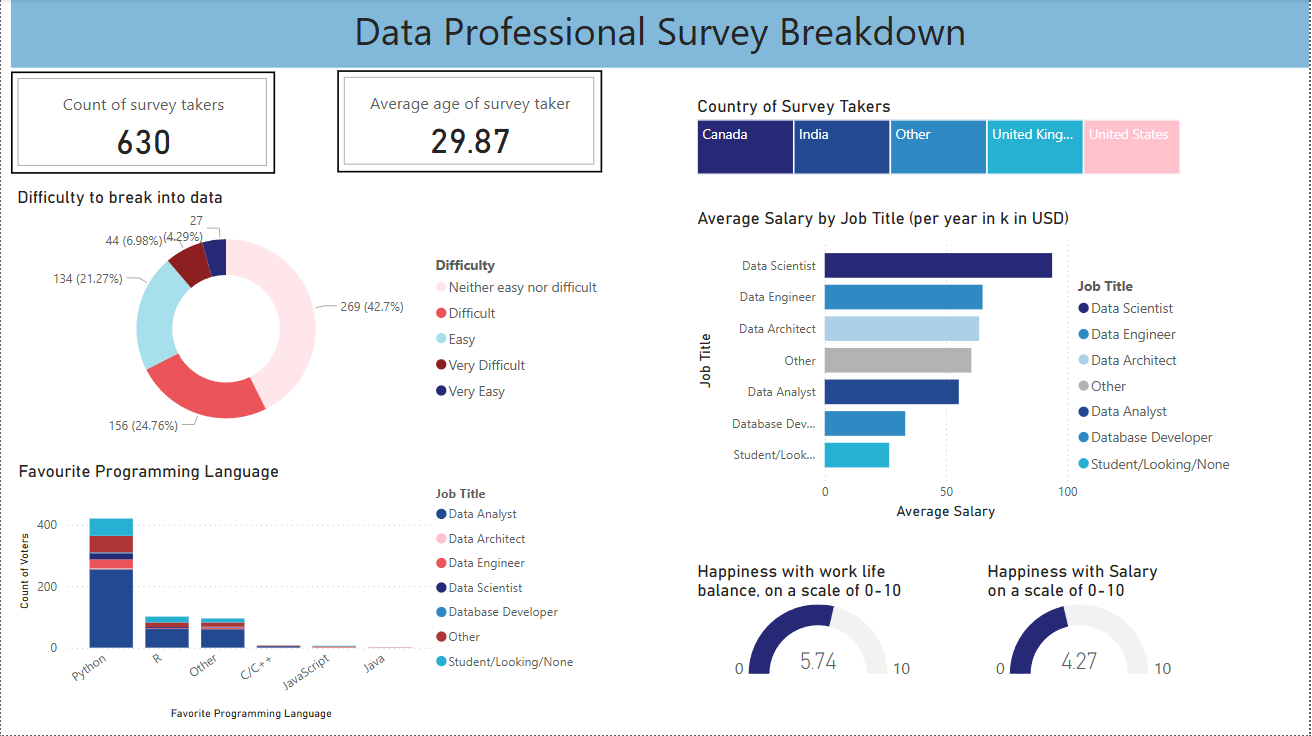

The page's visual inventory and layout, read from the dashboard file:
{"tool":"powerbi","page":{"name":"Page 1","canvas":[1280,720],"ordinal":0},"visuals":[{"type":"textbox","box":[10,0,1270.3,67.2],"z":0},{"type":"cardVisual","fields":{"Data":["Count(Data Professional Survey.Unique ID)"]},"box":[10,70.5,258.4,100],"z":1000},{"type":"cardVisual","fields":{"Data":["Avg(Data Professional Survey.Q10 - Current Age)"]},"box":[328.6,70.2,259.5,100],"z":2000},{"type":"barChart","title":"Average Salary by Job Title (per year in k in USD)","fields":{"Category":["Data Professional Survey.Q1 - Which Title Best Fits your Current Role?.1"],"Y":["Avg(Data Professional Survey.Average Salary)"],"Series":["Data Professional Survey.Q1 - Which Title Best Fits your Current Role?.1"]},"box":[676,204,540,310],"z":3000},{"type":"columnChart","title":"Favourite Programming Language","fields":{"Category":["Data Professional Survey.Q5 - Favorite Programming Language.1"],"Y":["CountNonNull(Data Professional Survey.Unique ID)"],"Series":["Data Professional Survey.Q1 - Which Title Best Fits your Current Role?.1"]},"box":[11.9,451.2,561.9,258.3],"z":4000},{"type":"treemap","title":"Country of Survey Takers","fields":{"Group":["Data Professional Survey.Q11 - Which Country do you live in?.1"],"Values":["Count(Data Professional Survey.Q11 - Which Country do you live in?.1)"]},"box":[676.2,93.8,482.5,82.5],"z":5000},{"type":"gauge","title":"Happiness with work life balance, on a scale of 0-10","fields":{"Y":["Avg(Data Professional Survey.Q6 - How Happy are you in your Current Position with the following? (Work/Life Balance))"],"MinValue":["Min(Data Professional Survey.Q6 - How Happy are you in your Current Position with the following? (Work/Life Balance))"],"MaxValue":["Max(Data Professional Survey.Q6 - How Happy are you in your Current Position with the following? (Work/Life Balance))1"]},"box":[676.2,548.8,255,121.2],"z":6000},{"type":"gauge","title":"Happiness with Salary on a scale of 0-10             ","fields":{"Y":["Avg(Data Professional Survey.Q6 - How Happy are you in your Current Position with the following? (Salary))"],"MinValue":["Min(Data Professional Survey.Q6 - How Happy are you in your Current Position with the following? (Salary))"],"MaxValue":["Max(Data Professional Survey.Q6 - How Happy are you in your Current Position with the following? (Salary))"]},"box":[960,548.8,198.8,121.2],"z":7000},{"type":"donutChart","title":"Difficulty to break into data","fields":{"Category":["Data Professional Survey.Q7 - How difficult was it for you to break into Data?"],"Y":["CountNonNull(Data Professional Survey.Q7 - How difficult was it for you to break into Data?)"]},"box":[10.7,183.3,585.7,259.5],"z":8000}]}

Visuals, with their boxes in screenshot pixels (x1, y1, x2, y2), scaled from the page's 1280x720 canvas onto the 1312x736 screenshot:
textbox: <bbox>10, 0, 1311, 69</bbox>
cardVisual - Count(Data Professional Survey.Unique ID): <bbox>10, 72, 275, 174</bbox>
cardVisual - Avg(Data Professional Survey.Q10 - Current Age): <bbox>337, 72, 603, 174</bbox>
"Average Salary by Job Title (per year in k in USD)" barChart: <bbox>693, 209, 1246, 525</bbox>
"Favourite Programming Language" columnChart: <bbox>12, 461, 588, 725</bbox>
"Country of Survey Takers" treemap: <bbox>693, 96, 1188, 180</bbox>
"Happiness with work life balance, on a scale of 0-10" gauge: <bbox>693, 561, 954, 685</bbox>
"Happiness with Salary on a scale of 0-10             " gauge: <bbox>984, 561, 1188, 685</bbox>
"Difficulty to break into data" donutChart: <bbox>11, 187, 611, 453</bbox>
